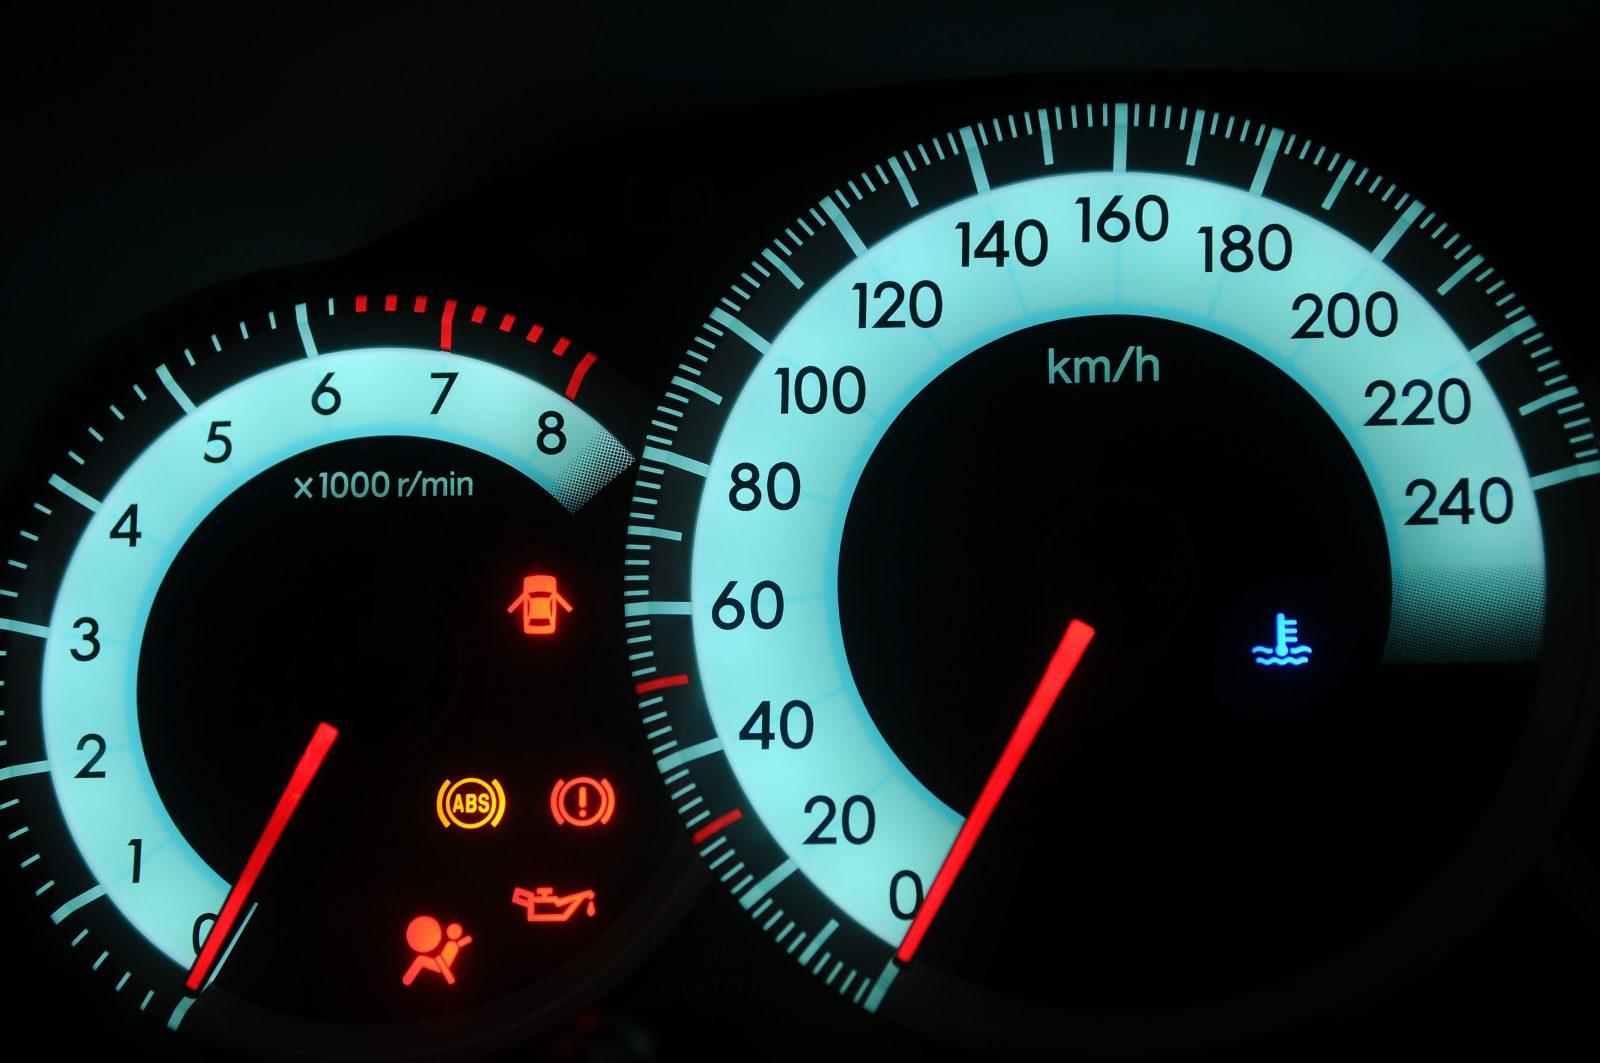ABS: (419, 764, 513, 840)
